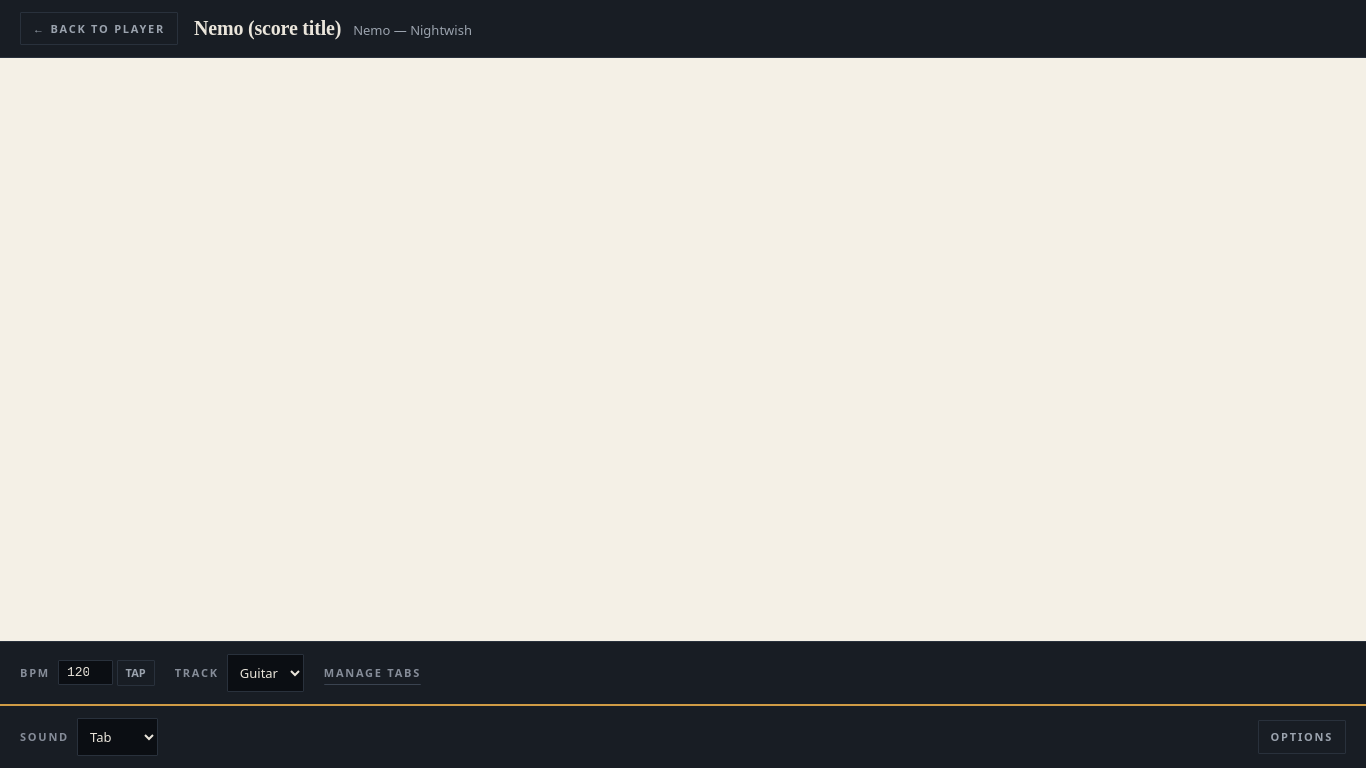
Test: TabViewer › sync with Spotify › nudges and resets the offset
This screenshot has width=1366, height=768.
Select "Spotify" in the dropdown labelled "Sound": [118, 737] box left=77, top=718, right=158, bottom=756
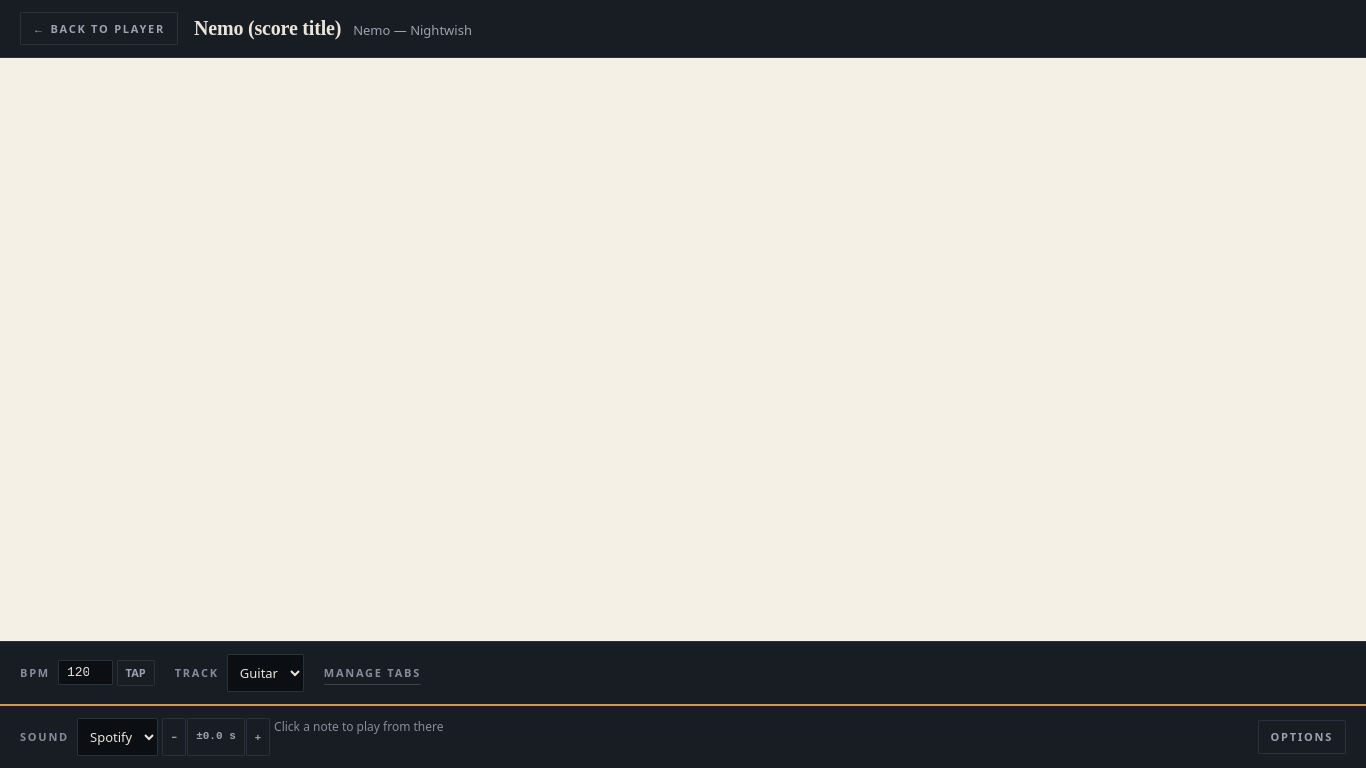
Click the button named "Move the tab half a second later": [258, 737] box left=246, top=718, right=270, bottom=756
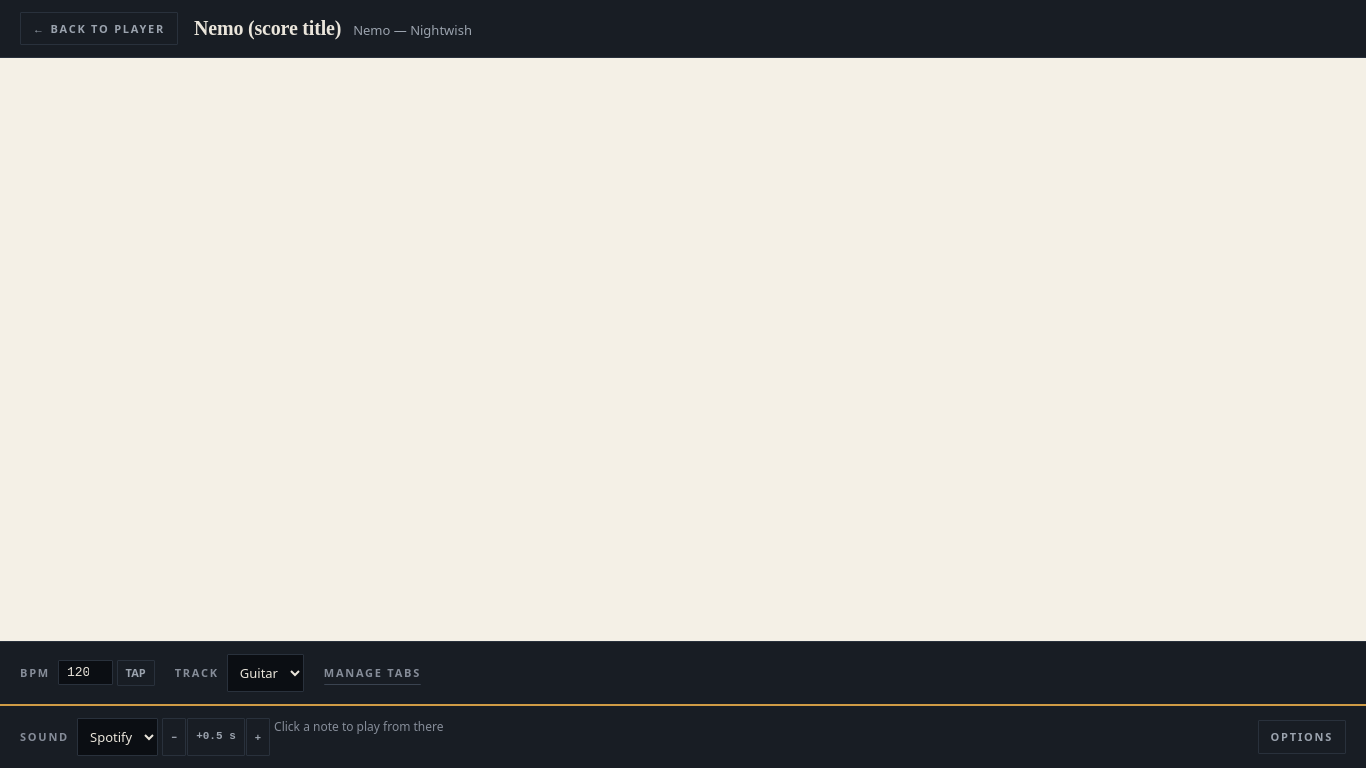
Click the button named "Move the tab half a second later": [258, 737] box left=246, top=718, right=270, bottom=756
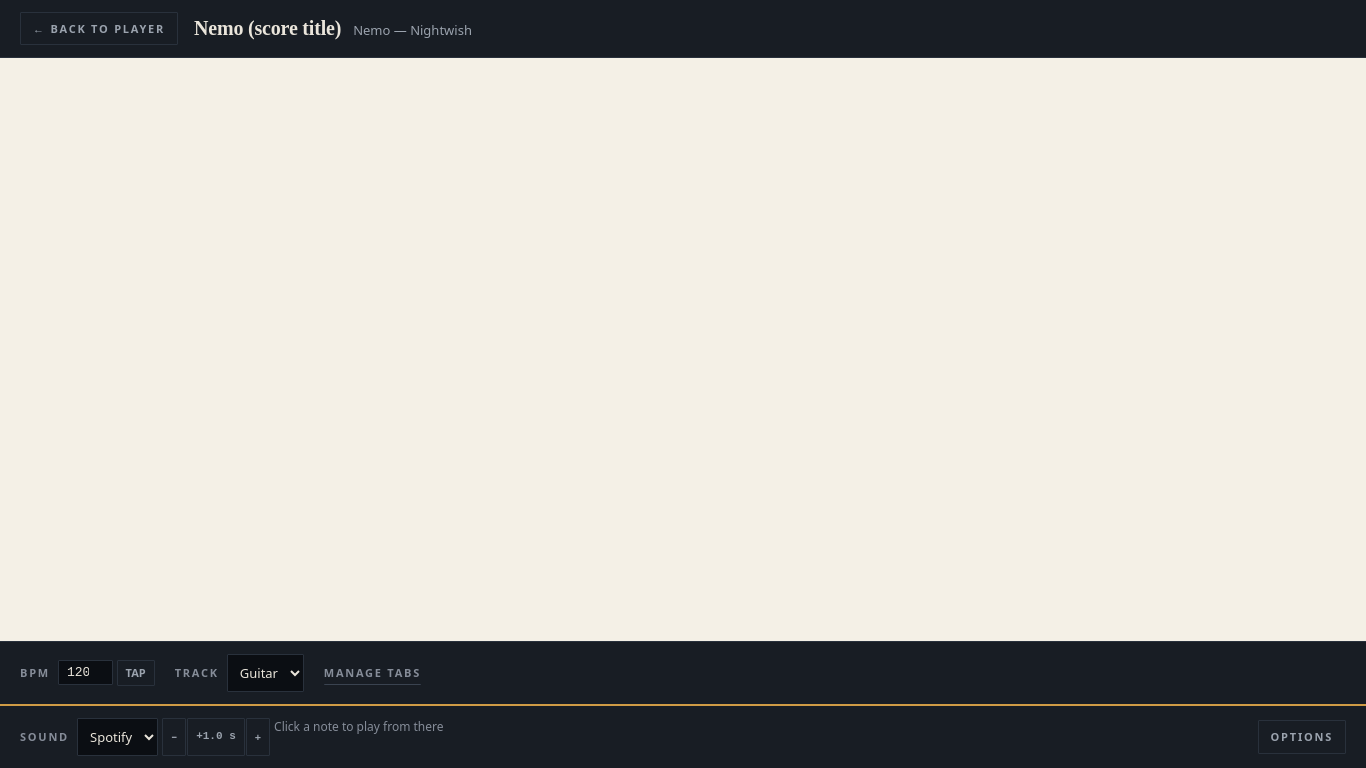
Result: the button named "Offset +1.0 s, click to reset" is shown at left=187, top=718, right=245, bottom=756
Click the button named "Move the tab half a second earlier": [174, 737] box left=162, top=718, right=186, bottom=756
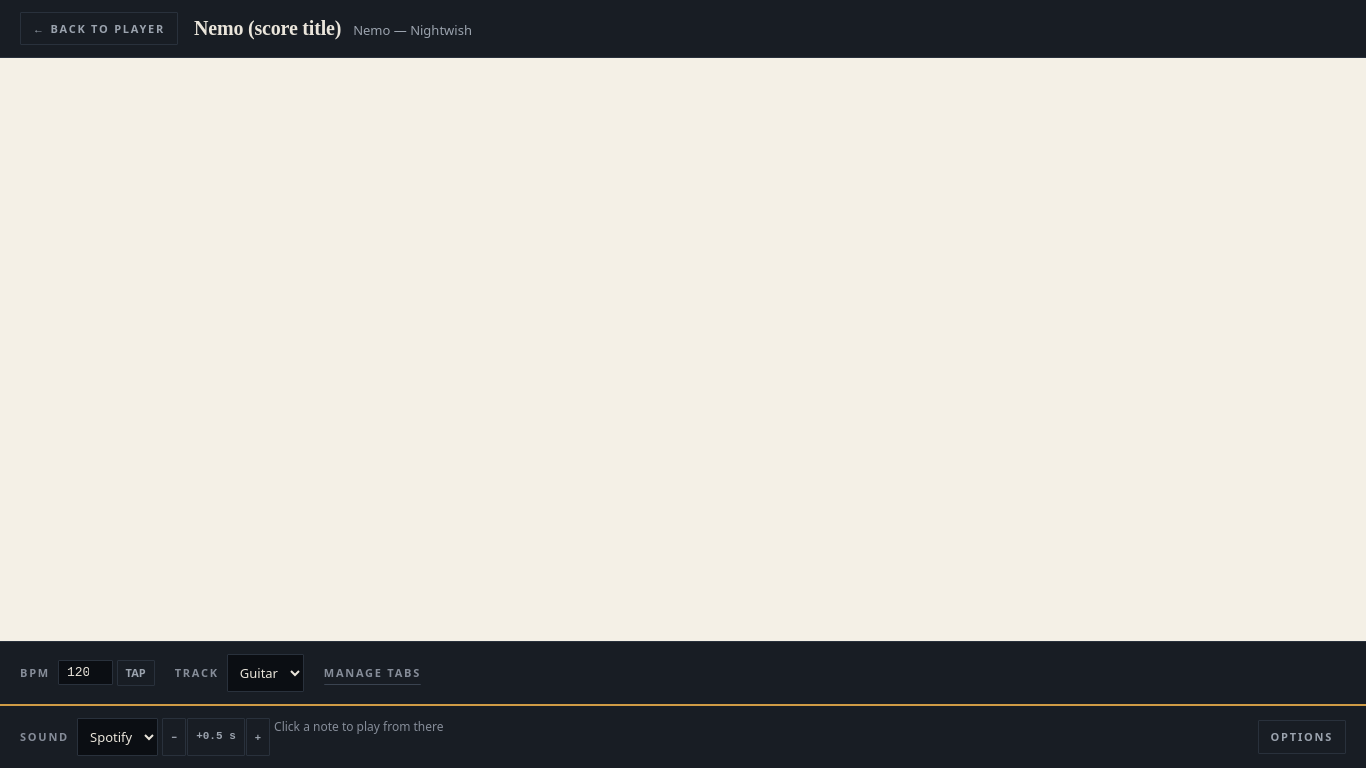
Click the button named "Offset": [216, 737] box left=187, top=718, right=245, bottom=756
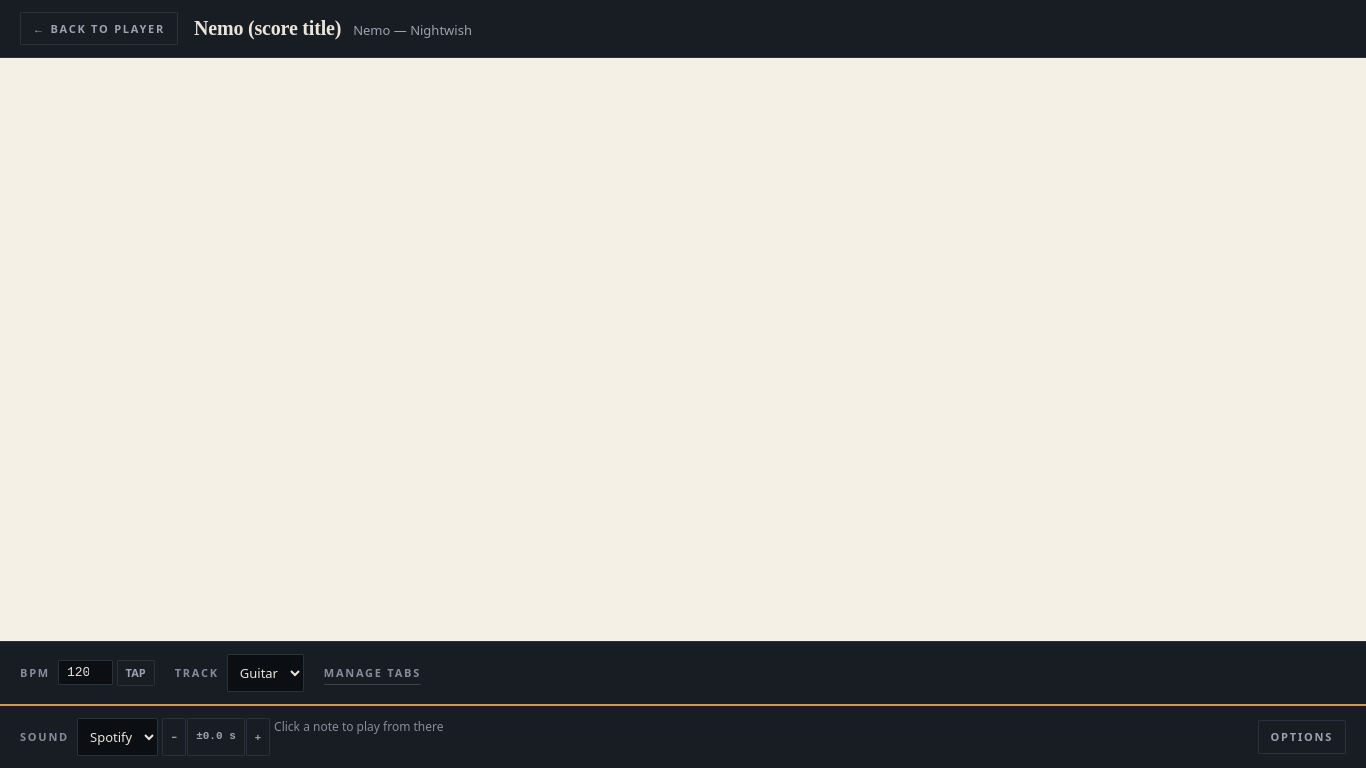
Result: the button named "Offset ±0.0 s, click to reset" is shown at left=187, top=718, right=245, bottom=756
